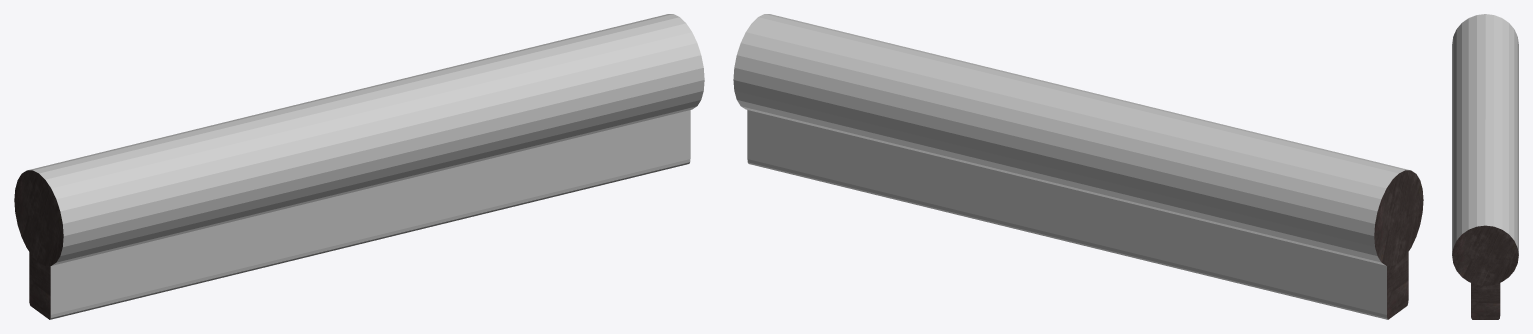
Rendered from SM_Roof_Foundation_6.FBX.
The picture shows the model from 3 angles, left to right: view 1: azimuth 30°, elevation 25°; view 2: azimuth 150°, elevation 25°; view 3: azimuth 270°, elevation 25°; orthographic projection. The views are drawn at different scales.
Visible parts, largest first — view 1: SM_Roof_Foundation_6; view 2: SM_Roof_Foundation_6; view 3: SM_Roof_Foundation_6.
Part boxes in pixels (box(x1,y1,x2,y2)): SM_Roof_Foundation_6: box(14, 14, 704, 319); SM_Roof_Foundation_6: box(733, 14, 1423, 319); SM_Roof_Foundation_6: box(1452, 14, 1518, 319).
Size of the model in its own units: 379 by 78.88 by 50.49.
